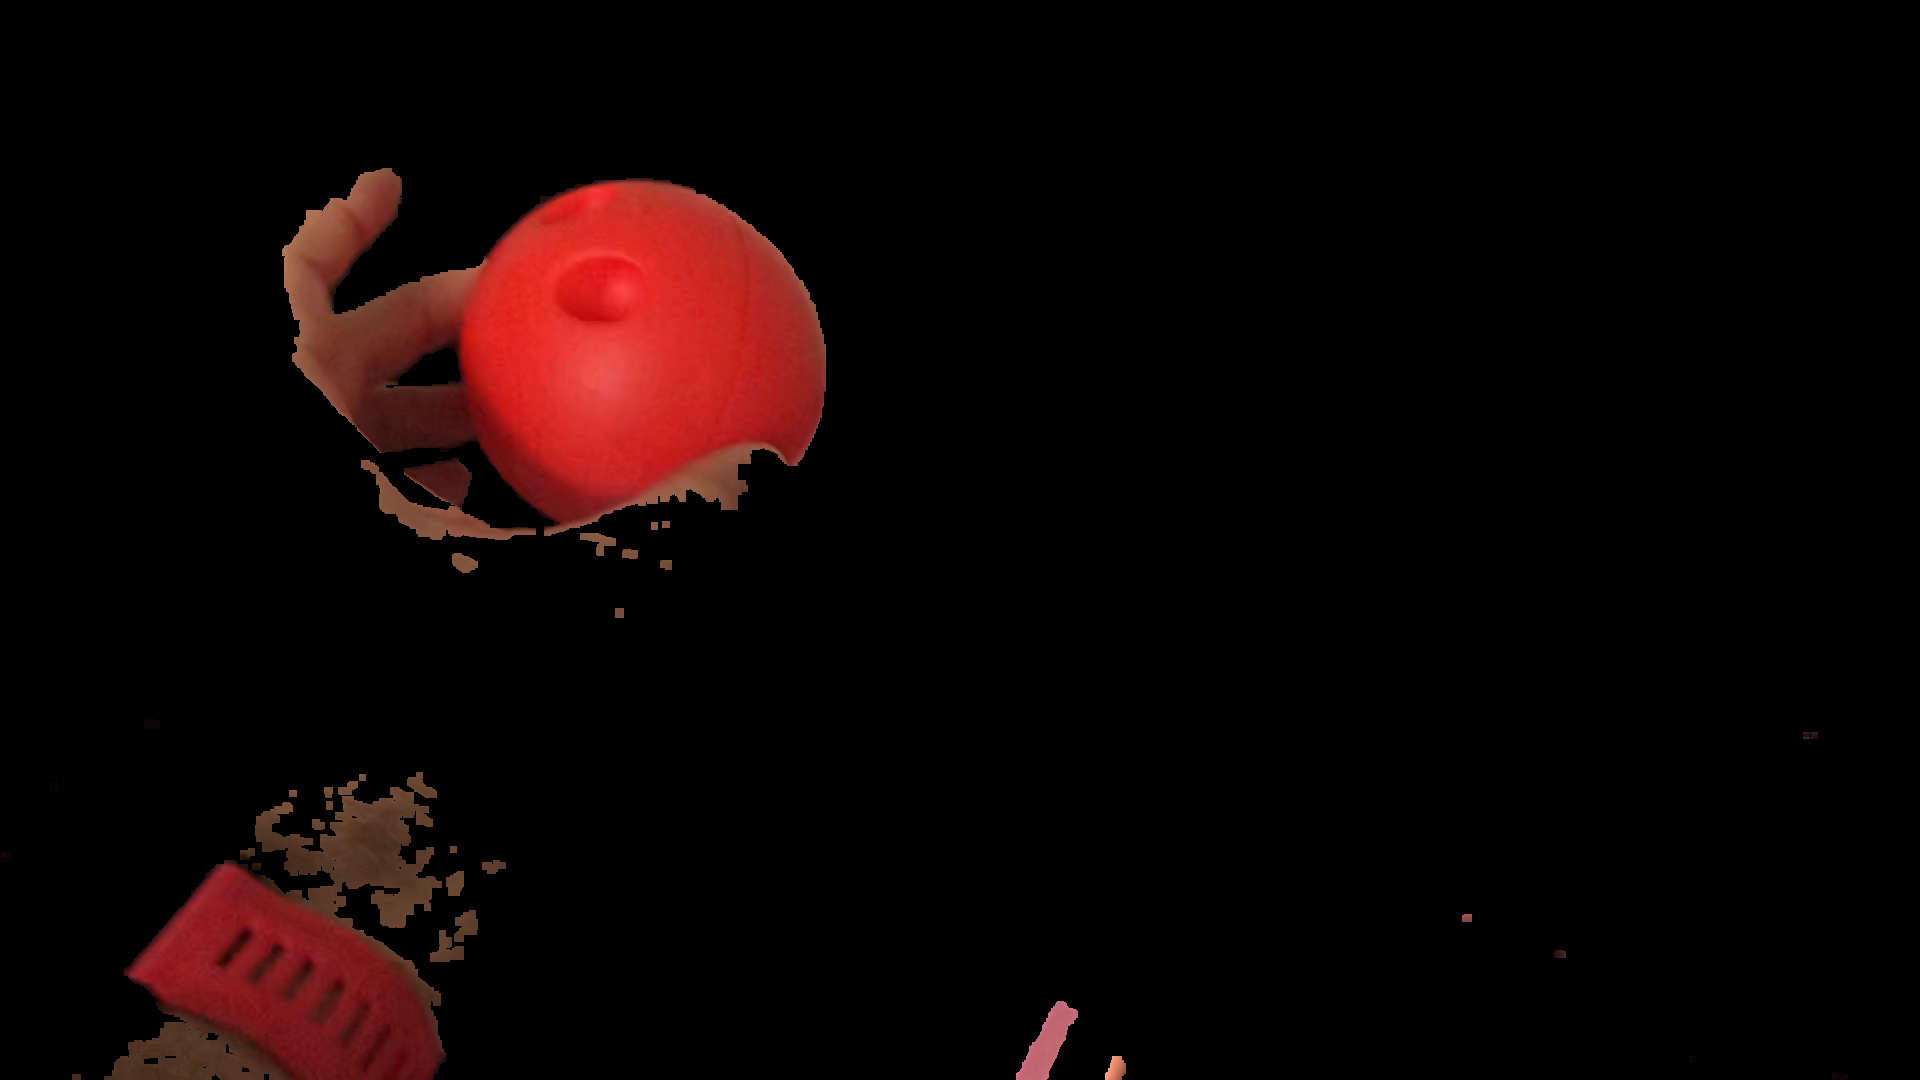Ball: (458, 181, 831, 549)
